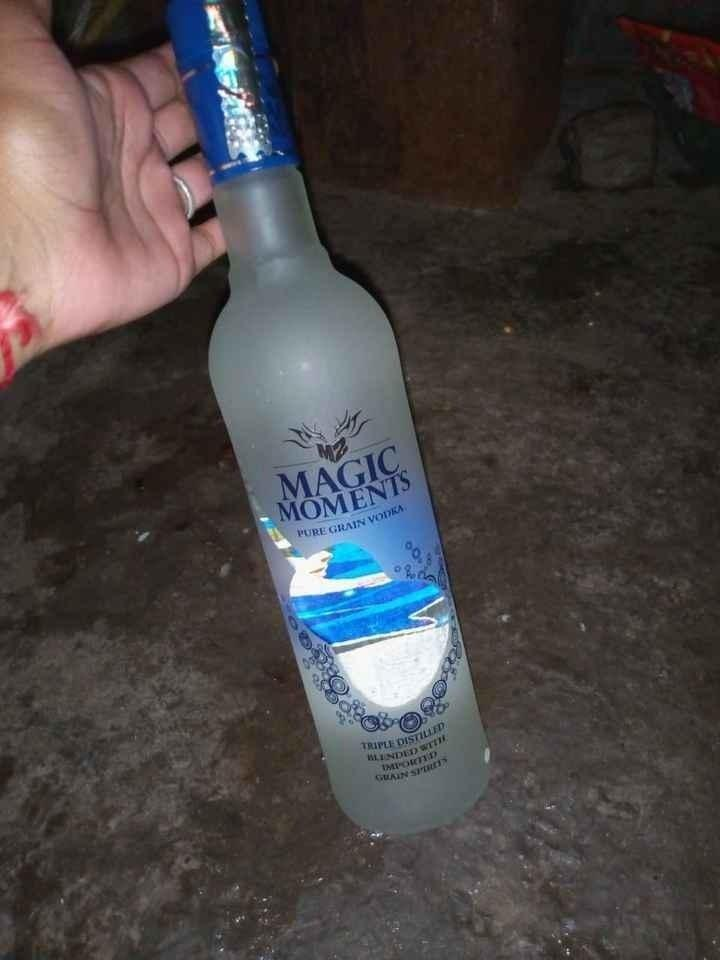bottle-glass: (166, 1, 495, 838)
